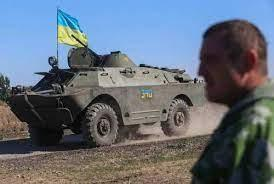tank: (8, 45, 211, 149)
